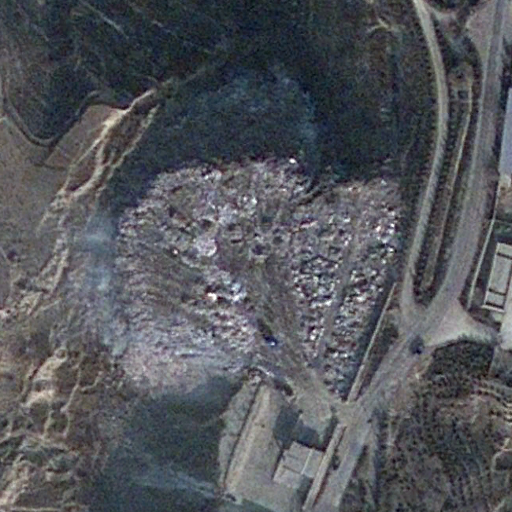msw: (110, 158, 399, 397)
